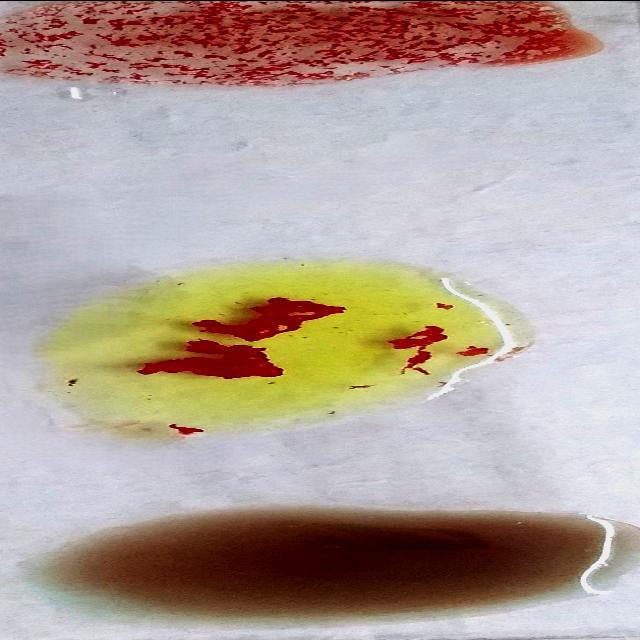B: (53, 262, 515, 420)
D: (1, 0, 584, 77)
